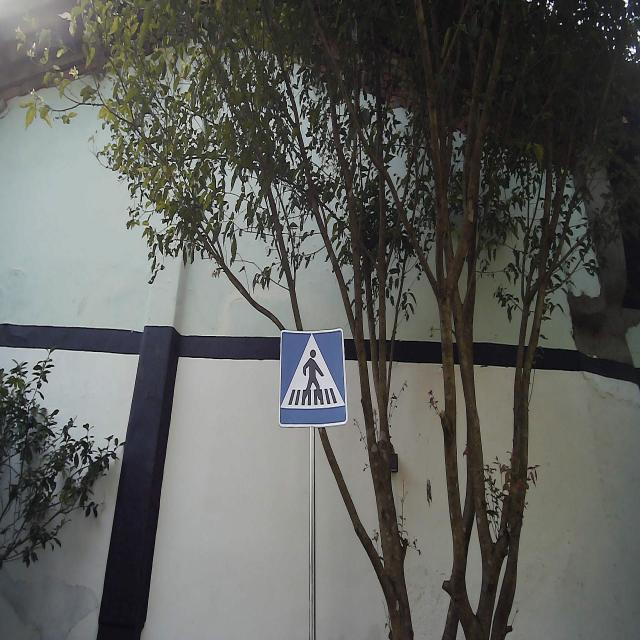crosswalk_sign: (278, 326, 348, 430)
